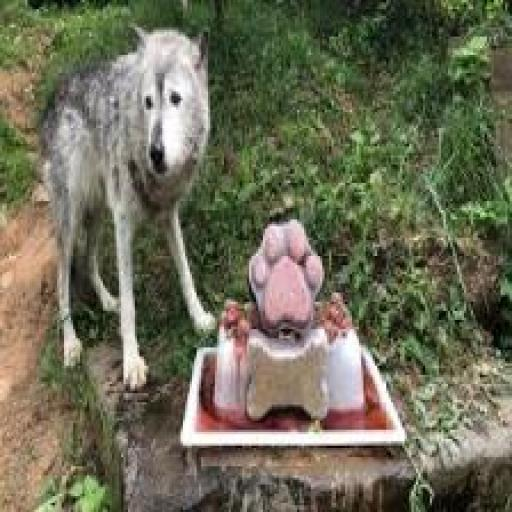wolf: (18, 0, 226, 386)
